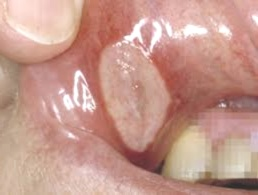Ulcer: (94, 36, 174, 155)
